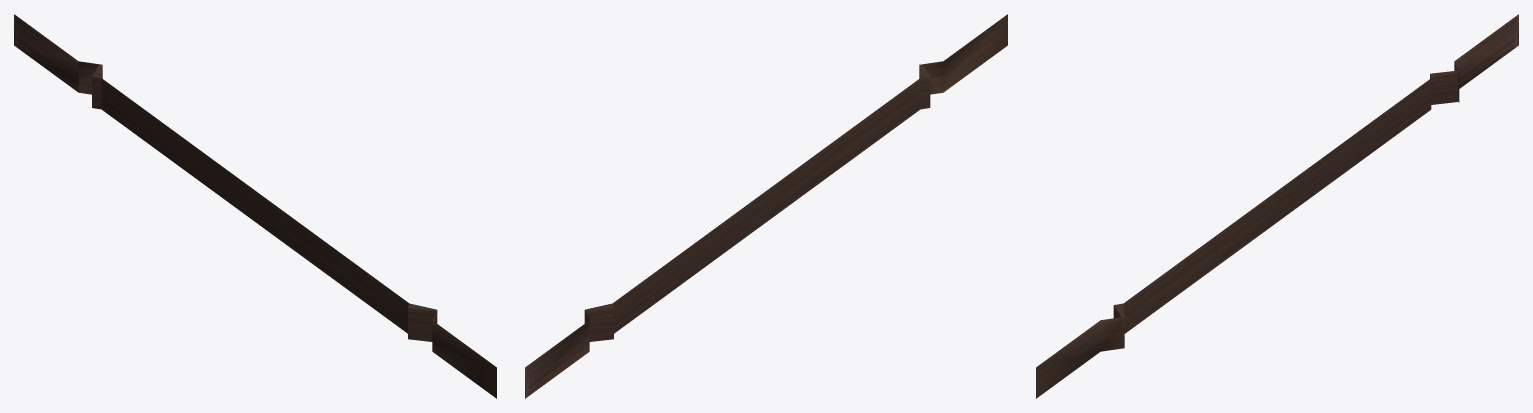
3 renders of one model, left to right at view 1: azimuth 30°, elevation 25°; view 2: azimuth 150°, elevation 25°; view 3: azimuth 330°, elevation 25°, orthographic.
Parts seen in each view (by area): view 1: 对象3168_网格.046_网格.039; view 2: 对象3168_网格.046_网格.039; view 3: 对象3168_网格.046_网格.039.
Boxes of the visible parts, box(x1,y1,x2,y2) form: 对象3168_网格.046_网格.039: box(14, 14, 496, 398); 对象3168_网格.046_网格.039: box(525, 14, 1007, 398); 对象3168_网格.046_网格.039: box(1036, 14, 1518, 398).
Size of the model in its own units: 0.55 by 0.82 by 22.8.
Materials: 1 (1 with a texture image).
